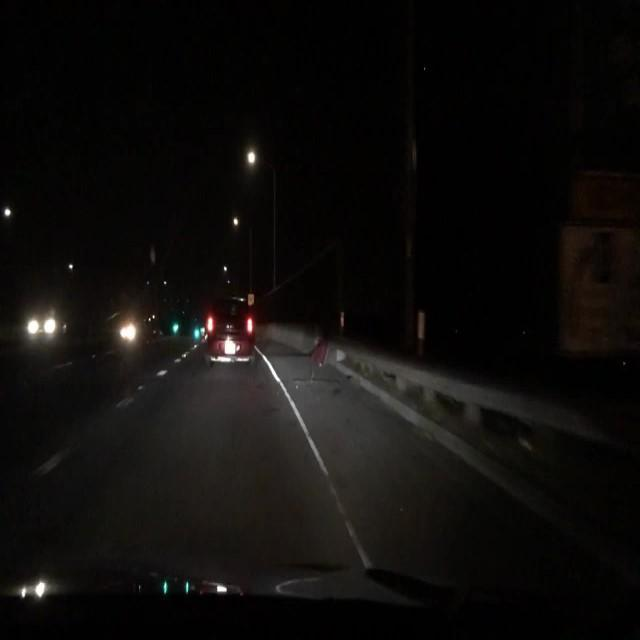normal: (189, 290, 283, 376)
